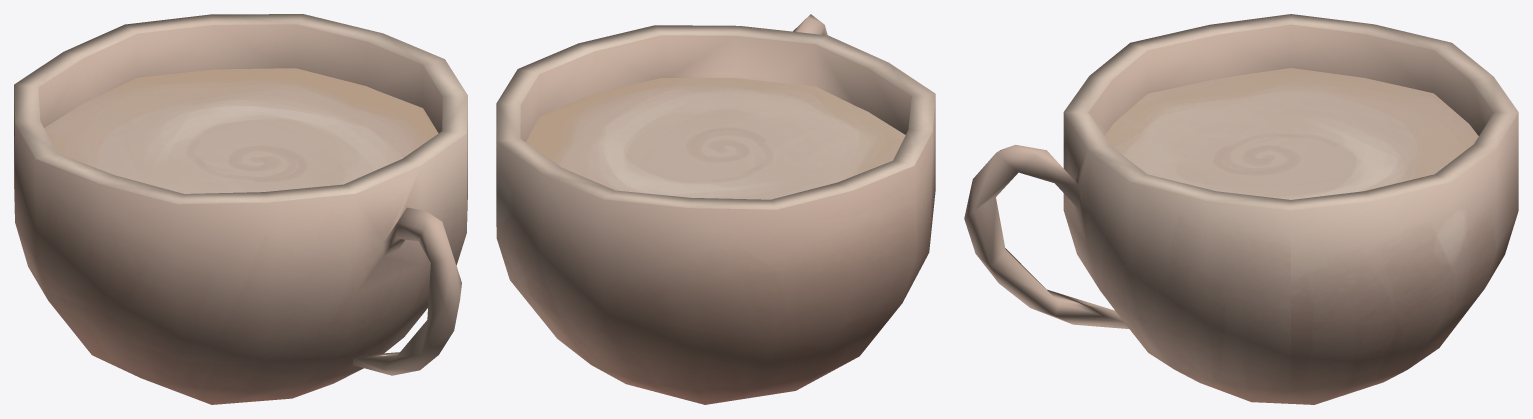
Rendered from coffeecup_full.fbx.
3 views of the same model, side by side, from view 1: azimuth 30°, elevation 25°; view 2: azimuth 150°, elevation 25°; view 3: azimuth 270°, elevation 25° (orthographic). The views are drawn at different scales.
Visible parts, largest first — view 1: Sphere.002; view 2: Sphere.002; view 3: Sphere.002.
Part boxes in pixels (bbox=[...]): Sphere.002: bbox=[14, 14, 467, 404]; Sphere.002: bbox=[496, 14, 935, 404]; Sphere.002: bbox=[964, 14, 1518, 404].
Size of the model in its own units: 37.18 by 21.96 by 44.32.
